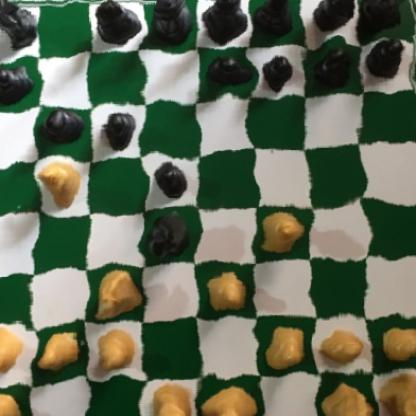black-bishop: (93, 0, 141, 47), (249, 0, 293, 39)
black-king: (200, 0, 248, 41)
black-knight: (145, 211, 192, 264), (312, 0, 358, 41)
black-pawn: (145, 153, 192, 199), (38, 100, 81, 143), (310, 48, 351, 93), (362, 38, 407, 78), (98, 106, 141, 147), (206, 52, 241, 97), (251, 53, 290, 91), (0, 57, 31, 103)
black-queen: (140, 0, 194, 45)
black-rook: (354, 0, 412, 42), (0, 0, 40, 51)
white-bishop: (255, 204, 305, 259), (36, 160, 84, 211)
white-king: (200, 378, 254, 416)
white-knight: (92, 269, 142, 320), (322, 382, 368, 416)
white-pawn: (264, 321, 315, 373), (37, 321, 80, 381), (89, 327, 137, 375), (202, 270, 251, 317), (373, 322, 416, 366), (320, 330, 365, 367), (0, 321, 23, 377)
white-queen: (147, 378, 196, 416)
white-rook: (375, 368, 416, 416), (0, 384, 24, 416)
